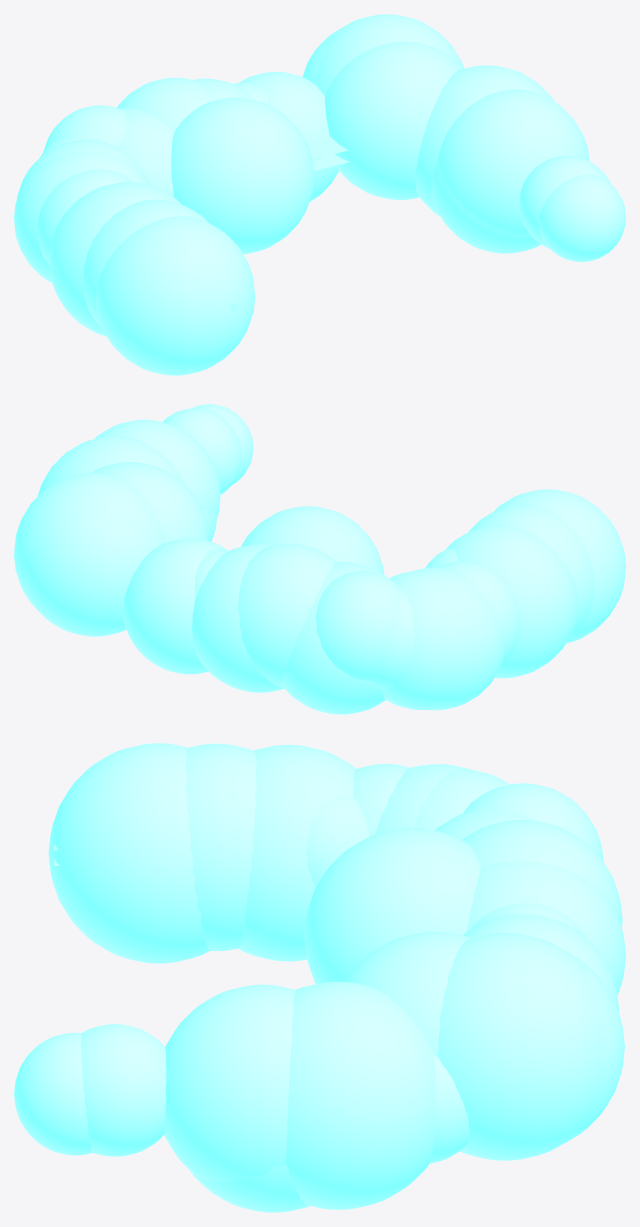
File: SoapyBubbleParticleAnimation.fbx
3 renders of one model, top to bottom at view 1: azimuth 30°, elevation 25°; view 2: azimuth 150°, elevation 25°; view 3: azimuth 270°, elevation 25°, orthographic. The views are drawn at different scales.
Parts seen in each view (by area): view 1: Emissions|Sphere.003|Dupli|79, Emissions|Sphere.003|Dupli|86, Emissions|Sphere.003|Dupli|106, Emissions|Sphere.003|Dupli|101, Emissions|Sphere.003|Dupli|78, Emissions|Sphere.003|Dupli|90, Emissions|Sphere.003|Dupli|84, Emissions|Sphere.003|Dupli|66, Emissions|Sphere.003|Dupli|88, Emissions|Sphere.003|Dupli|72, Emissions|Sphere.003|Dupli|99, Emissions|Sphere.003|Dupli|87 (+9 smaller); view 2: Emissions|Sphere.003|Dupli|91, Emissions|Sphere.003|Dupli|78, Emissions|Sphere.003|Dupli|92, Emissions|Sphere.003|Dupli|72, Emissions|Sphere.003|Dupli|89, Emissions|Sphere.003|Dupli|88, Emissions|Sphere.003|Dupli|96, Emissions|Sphere.003|Dupli|58, Emissions|Sphere.003|Dupli|71, Emissions|Sphere.003|Dupli|66, Emissions|Sphere.003|Dupli|79, Emissions|Sphere.003|Dupli|86 (+9 smaller); view 3: Emissions|Sphere.003|Dupli|88, Emissions|Sphere.003|Dupli|84, Emissions|Sphere.003|Dupli|79, Emissions|Sphere.003|Dupli|101, Emissions|Sphere.003|Dupli|86, Emissions|Sphere.003|Dupli|78, Emissions|Sphere.003|Dupli|99, Emissions|Sphere.003|Dupli|94, Emissions|Sphere.003|Dupli|96, Emissions|Sphere.003|Dupli|90, Emissions|Sphere.003|Dupli|106, Emissions|Sphere.003|Dupli|92 (+11 smaller).
Boxes of the visible parts, x1,y1,x2,y2 form: Emissions|Sphere.003|Dupli|79: (95,216,255,375); Emissions|Sphere.003|Dupli|86: (171,97,314,254); Emissions|Sphere.003|Dupli|106: (325,41,461,199); Emissions|Sphere.003|Dupli|101: (437,89,589,236); Emissions|Sphere.003|Dupli|78: (49,182,181,336); Emissions|Sphere.003|Dupli|90: (539,174,625,261); Emissions|Sphere.003|Dupli|84: (415,65,554,216); Emissions|Sphere.003|Dupli|66: (14,151,150,283); Emissions|Sphere.003|Dupli|88: (314,14,464,96); Emissions|Sphere.003|Dupli|72: (239,72,338,201); Emissions|Sphere.003|Dupli|99: (82,199,208,326); Emissions|Sphere.003|Dupli|87: (431,163,541,253); Emissions|Sphere.003|Dupli|91: (24,518,157,636); Emissions|Sphere.003|Dupli|78: (446,524,578,678); Emissions|Sphere.003|Dupli|92: (238,543,336,683); Emissions|Sphere.003|Dupli|72: (122,538,227,674); Emissions|Sphere.003|Dupli|89: (315,571,400,681); Emissions|Sphere.003|Dupli|88: (14,472,165,606); Emissions|Sphere.003|Dupli|96: (192,544,283,692); Emissions|Sphere.003|Dupli|58: (382,570,457,709); Emissions|Sphere.003|Dupli|71: (282,562,386,714); Emissions|Sphere.003|Dupli|66: (415,567,504,710); Emissions|Sphere.003|Dupli|79: (494,489,625,643); Emissions|Sphere.003|Dupli|86: (241,506,384,574); Emissions|Sphere.003|Dupli|88: (438,933,603,1160); Emissions|Sphere.003|Dupli|84: (285,981,435,1209); Emissions|Sphere.003|Dupli|79: (48,743,209,963); Emissions|Sphere.003|Dupli|101: (164,984,295,1182); Emissions|Sphere.003|Dupli|86: (304,828,480,983); Emissions|Sphere.003|Dupli|78: (238,744,356,961); Emissions|Sphere.003|Dupli|99: (185,743,256,951); Emissions|Sphere.003|Dupli|94: (80,1024,166,1156); Emissions|Sphere.003|Dupli|96: (466,860,625,994); Emissions|Sphere.003|Dupli|90: (14,1032,92,1155); Emissions|Sphere.003|Dupli|106: (344,931,471,1056); Emissions|Sphere.003|Dupli|92: (462,820,622,927).
Size of the model in its own units: 435 by 138 by 324.
